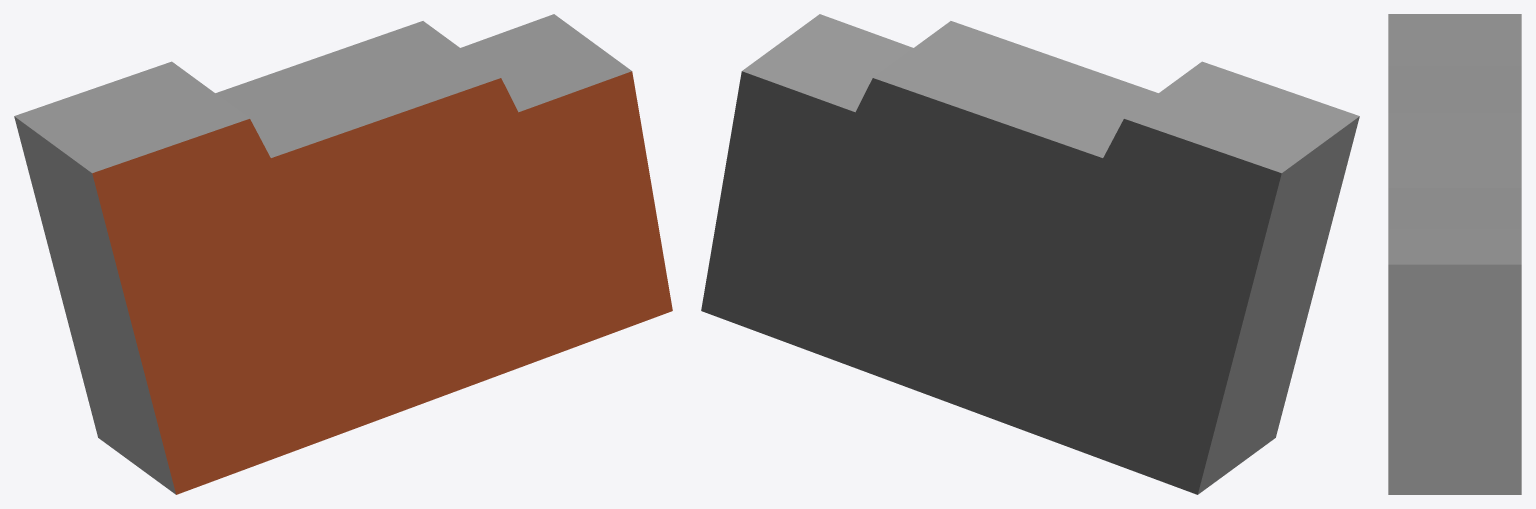
File: construction_1619_assumed_A_Junta_de_freguesia_h6m.obj
The picture shows the model from 3 angles, left to right: view 1: azimuth 30°, elevation 25°; view 2: azimuth 150°, elevation 25°; view 3: azimuth 270°, elevation 25°; orthographic projection. The views are drawn at different scales.
Parts seen in each view (by area): view 1: construction_1619_assumed_A_Junta_de_freguesia; view 2: construction_1619_assumed_A_Junta_de_freguesia; view 3: construction_1619_assumed_A_Junta_de_freguesia.
Part boxes in pixels (x1,y1,x2,y2): construction_1619_assumed_A_Junta_de_freguesia: (14,14,672,494); construction_1619_assumed_A_Junta_de_freguesia: (701,14,1359,494); construction_1619_assumed_A_Junta_de_freguesia: (1388,14,1521,494).
Bounding box in the file's own units: 25.76 × 15.19 × 6.
